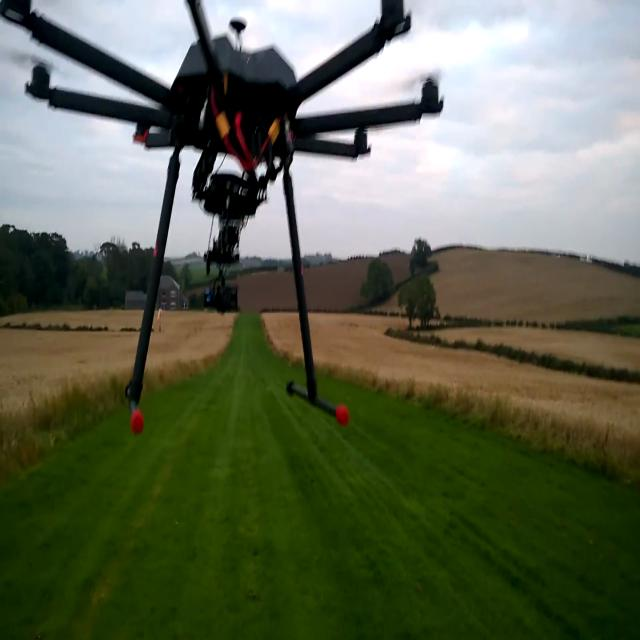drone: (2, 0, 440, 456)
